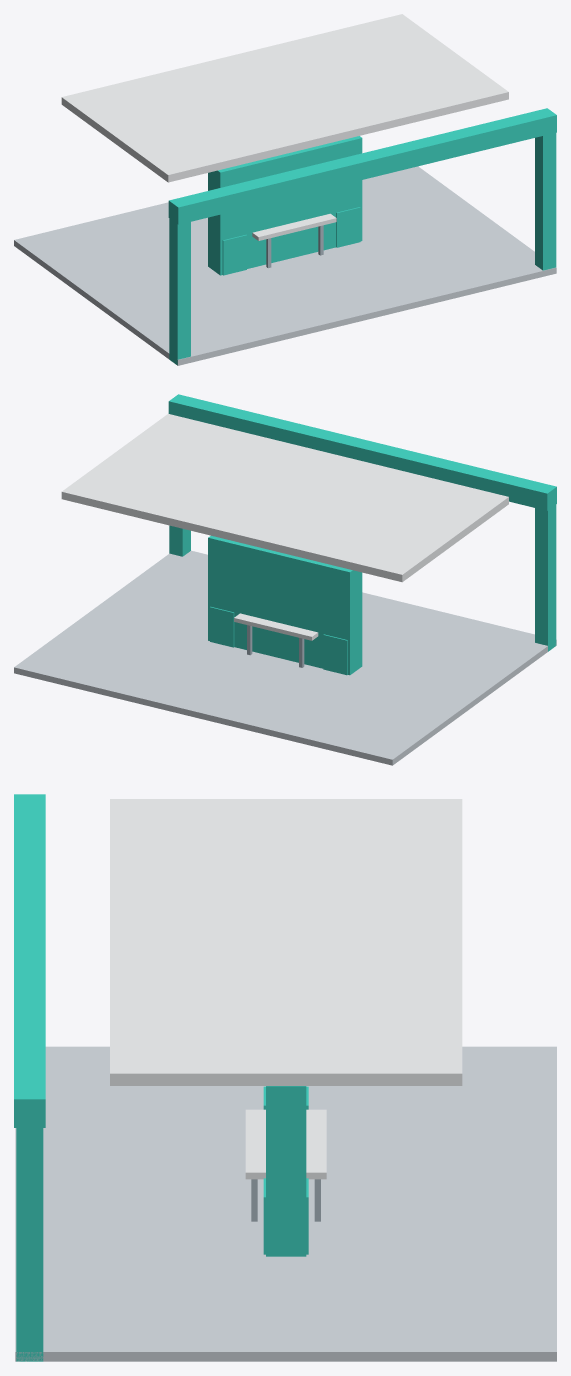
3 views of the same model, one above another, from view 1: azimuth 30°, elevation 25°; view 2: azimuth 150°, elevation 25°; view 3: azimuth 270°, elevation 25° (orthographic). The views are drawn at different scales.
Parts seen in each view (by area): view 1: Exhibition Booth Concept; view 2: Exhibition Booth Concept; view 3: Exhibition Booth Concept.
Boxes of the visible parts, x1=… form: Exhibition Booth Concept: x1=14, y1=14, x2=556, y2=365; Exhibition Booth Concept: x1=14, y1=394, x2=556, y2=765; Exhibition Booth Concept: x1=14, y1=794, x2=556, y2=1361.
Bounding box in the file's own units: 8 × 3.34 × 6.02.
